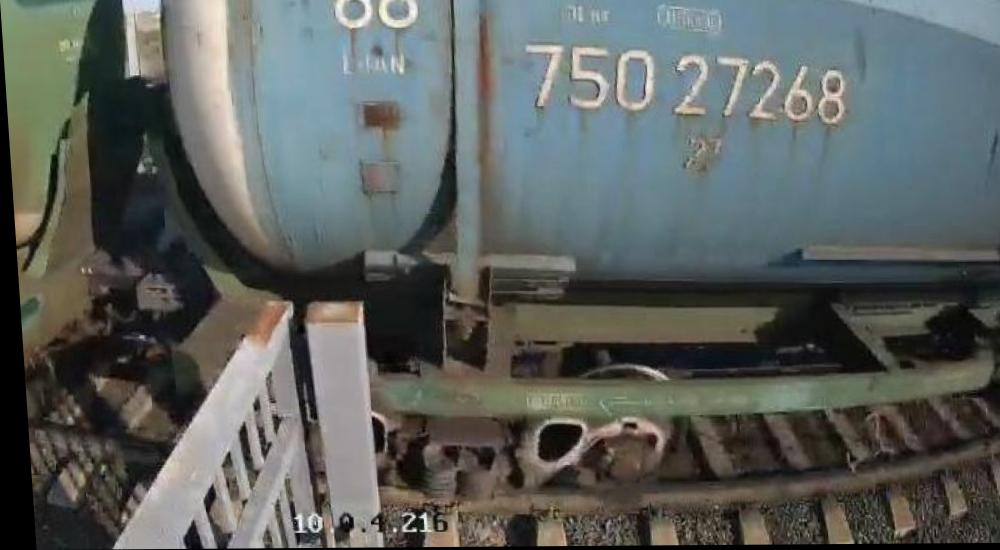Wagon-number: (519, 35, 853, 134)
